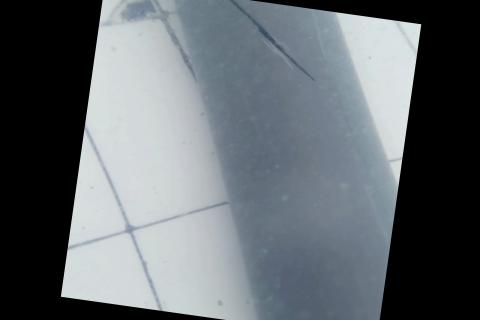keretakan: (190, 0, 325, 81)
